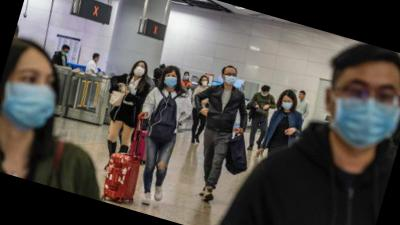with_mask: (323, 70, 400, 159), (162, 71, 180, 91), (222, 70, 237, 87), (133, 62, 147, 78), (280, 98, 295, 112), (200, 78, 209, 88), (94, 55, 101, 65), (61, 49, 69, 57), (260, 91, 269, 98), (183, 74, 190, 81)
without_mask: (297, 93, 305, 102)
